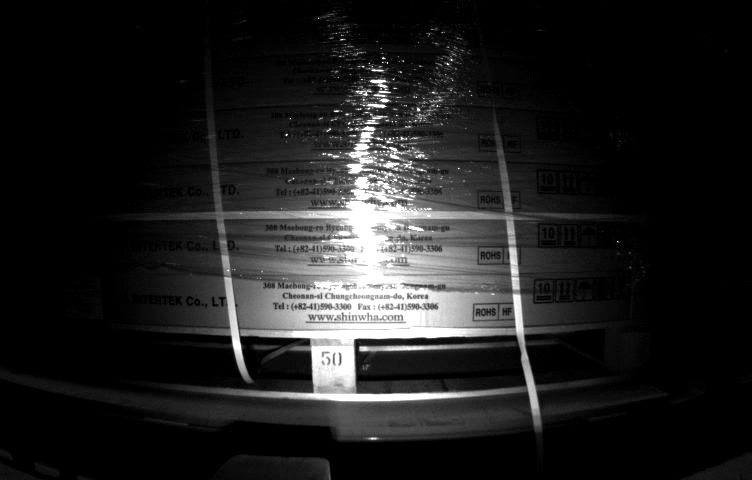True Barcode: (59, 277, 107, 321)
